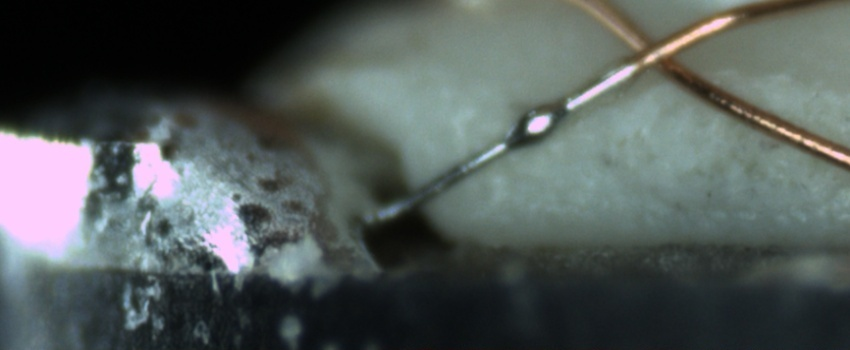CL: (605, 12, 699, 87)
TB: (512, 98, 565, 149)
TS: (364, 61, 637, 227)
TTCW: (357, 42, 670, 228)
